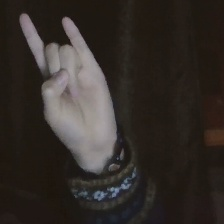U: (14, 1, 122, 165)
